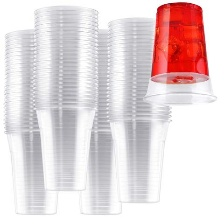glass: (102, 14, 189, 206), (30, 1, 100, 196), (0, 28, 66, 219), (73, 24, 134, 218), (140, 0, 224, 109)
